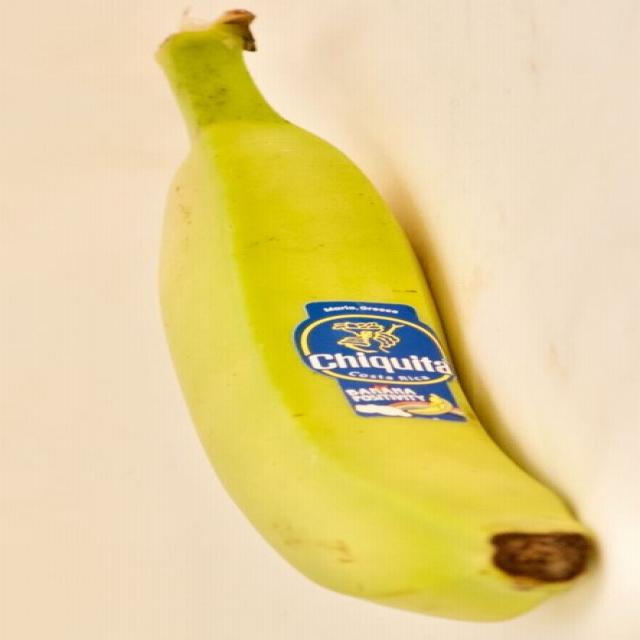Banana: (140, 15, 606, 616)
